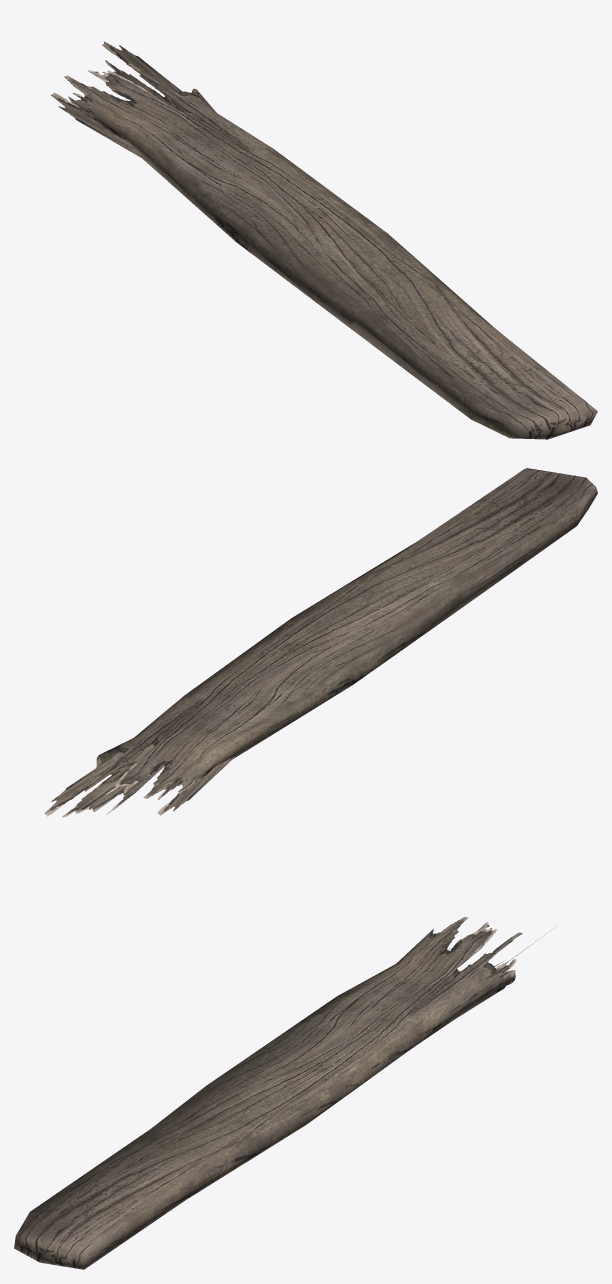
The model's file is WPlank_Splinted_04.fbx.
The picture shows the model from 3 angles, top to bottom: view 1: azimuth 30°, elevation 25°; view 2: azimuth 150°, elevation 25°; view 3: azimuth 330°, elevation 25°; orthographic projection. The views are drawn at different scales.
Parts seen in each view (by area): view 1: WPlank_splinted_04; view 2: WPlank_splinted_04; view 3: WPlank_splinted_04.
Part boxes in pixels (box(x1,y1,x2,y2)): WPlank_splinted_04: box(51, 41, 597, 439); WPlank_splinted_04: box(44, 468, 597, 817); WPlank_splinted_04: box(14, 917, 546, 1269).
Bounding box in the file's own units: 0.8034 × 0.32 × 6.22.
